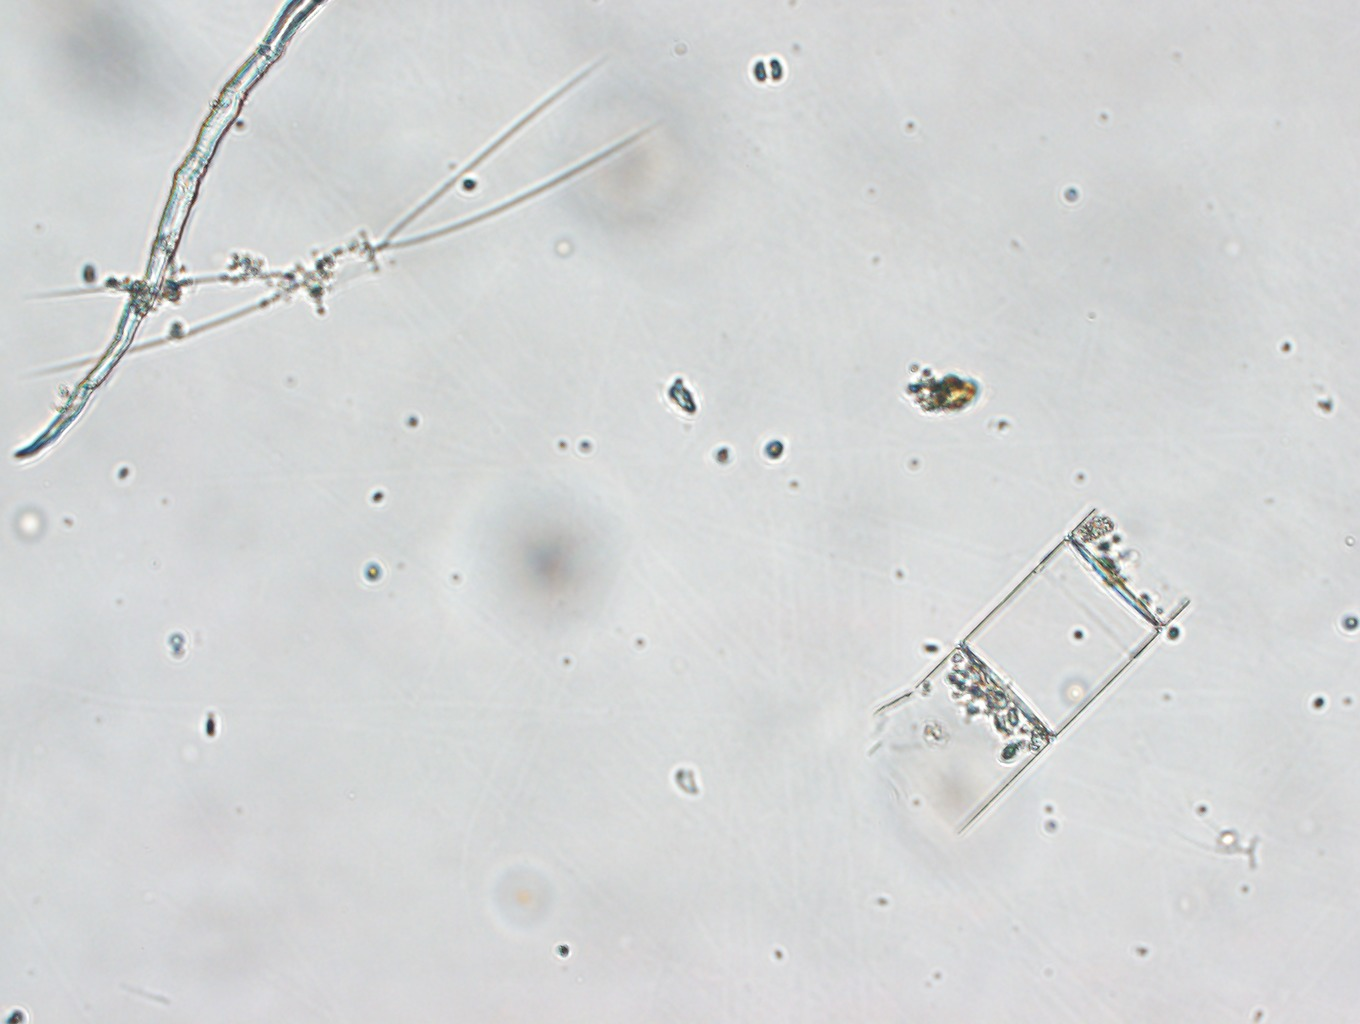chaetoceros: (25, 49, 659, 397)
guinardia flaccida: (860, 503, 1190, 833)
